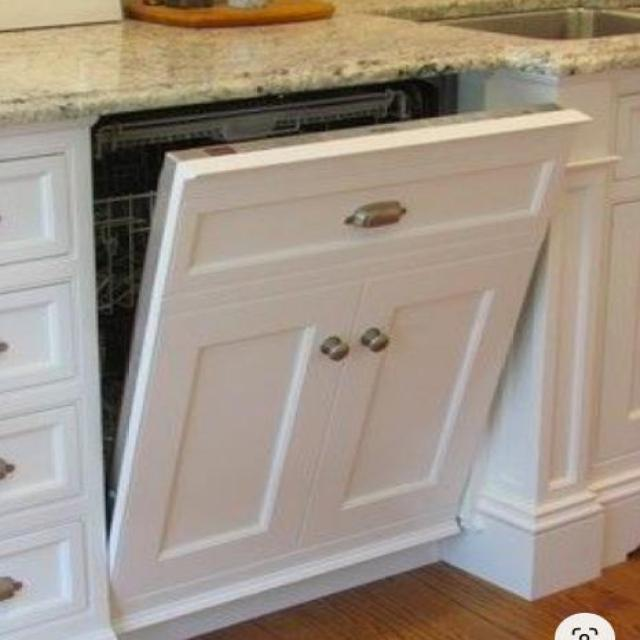dishwasher: (87, 65, 596, 614)
